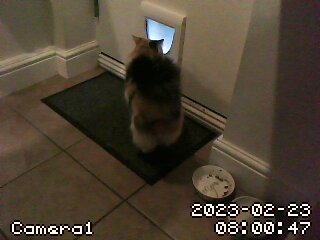clara: (124, 27, 188, 157)
